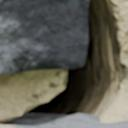brick: (0, 0, 87, 73), (36, 116, 127, 127), (0, 126, 26, 127)
crack: (0, 0, 126, 127)
